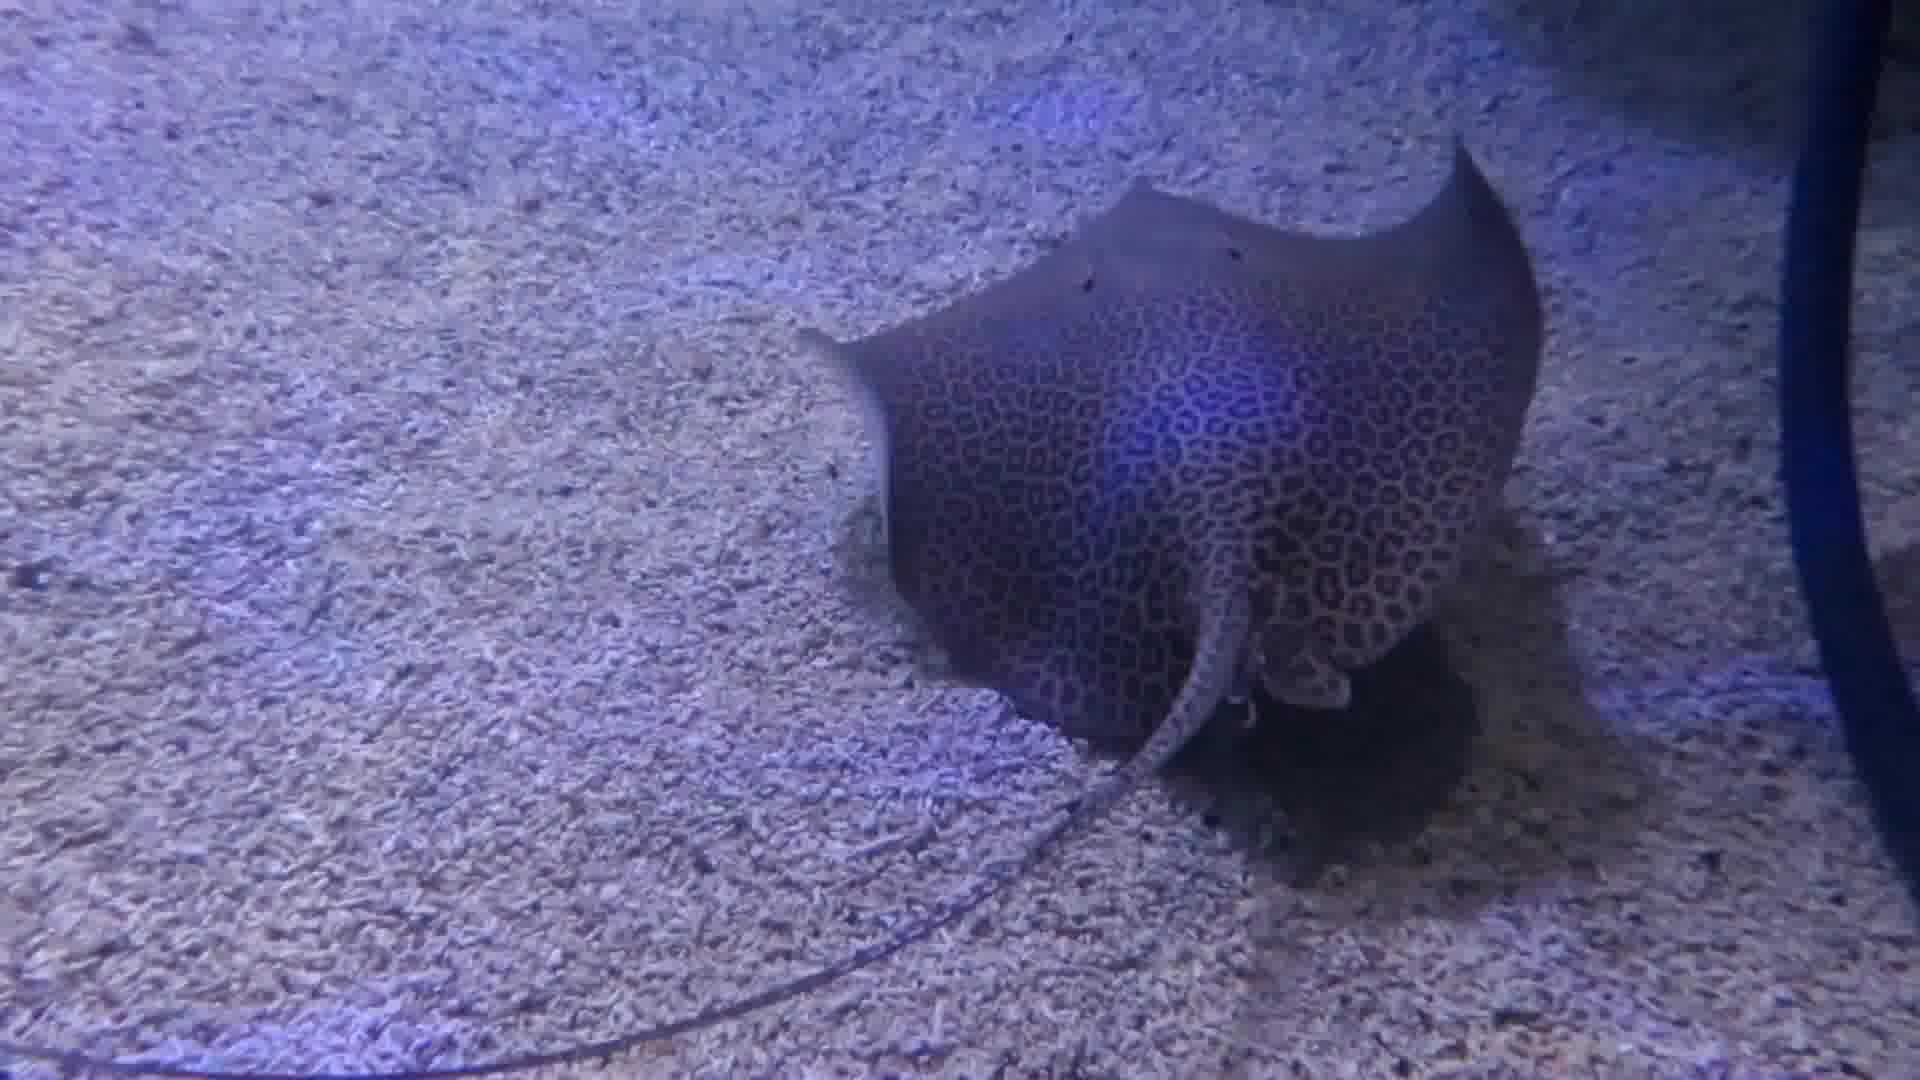Himantura uarnak: (740, 82, 1648, 852)
